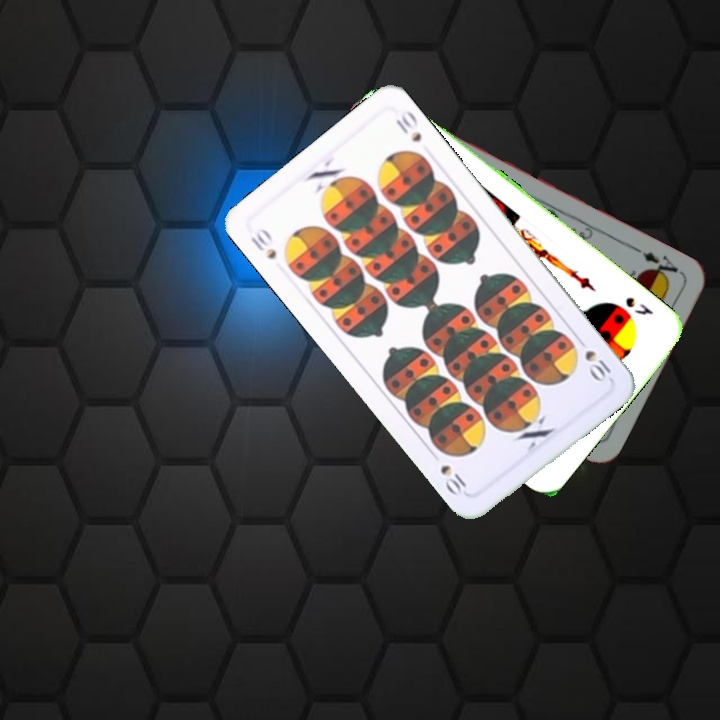EA: (638, 247, 685, 284)
S10: (572, 332, 616, 386), (246, 223, 279, 262)
SK: (621, 292, 656, 318)
